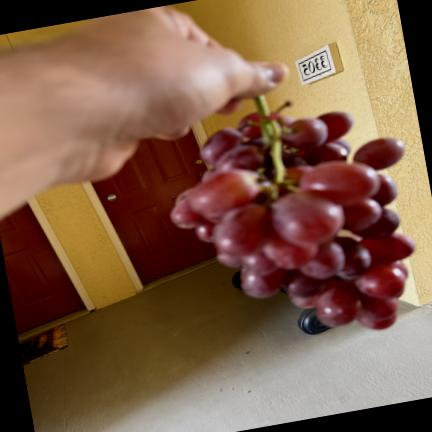grape_cluster: (171, 96, 415, 329)
